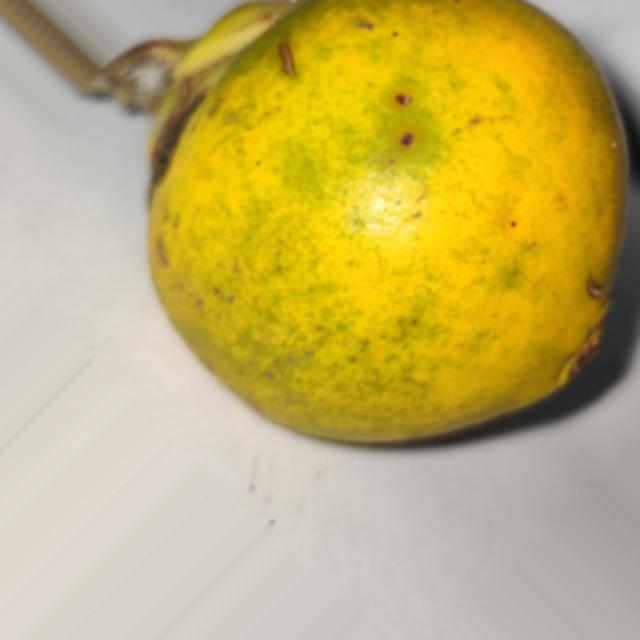damaged: (146, 0, 631, 448)
